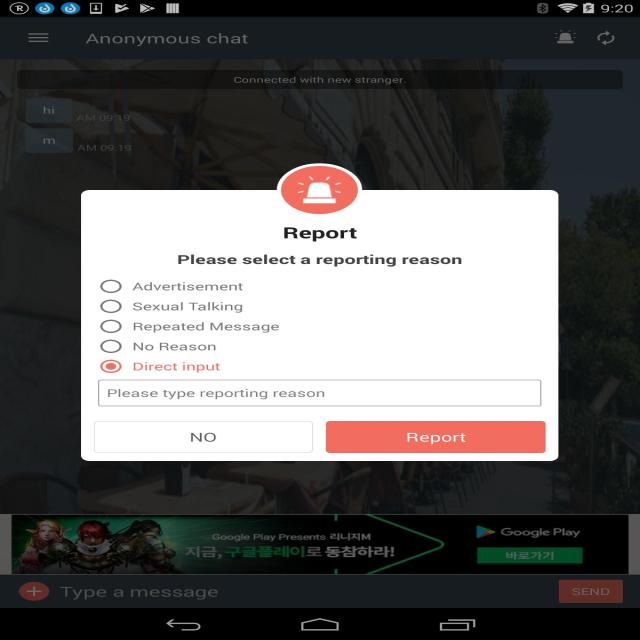button: (328, 421, 546, 454), (96, 421, 312, 454), (97, 315, 287, 335), (96, 274, 249, 296), (96, 296, 248, 314), (97, 336, 228, 356), (97, 356, 229, 375), (477, 546, 583, 564), (559, 580, 624, 604), (544, 24, 583, 52), (588, 24, 623, 54), (14, 581, 50, 602), (27, 28, 52, 50)
field: (1, 575, 553, 606), (97, 379, 543, 408)
heading: (177, 253, 465, 268), (82, 28, 250, 50), (278, 226, 362, 241)
iframe: (10, 511, 630, 574)
image: (272, 163, 368, 216)
label: (104, 386, 327, 400), (55, 584, 225, 601), (128, 321, 286, 334), (130, 300, 247, 314), (127, 360, 226, 376), (129, 281, 247, 292), (129, 340, 227, 353)
text: (175, 528, 402, 562), (228, 75, 411, 87), (499, 524, 586, 540)
